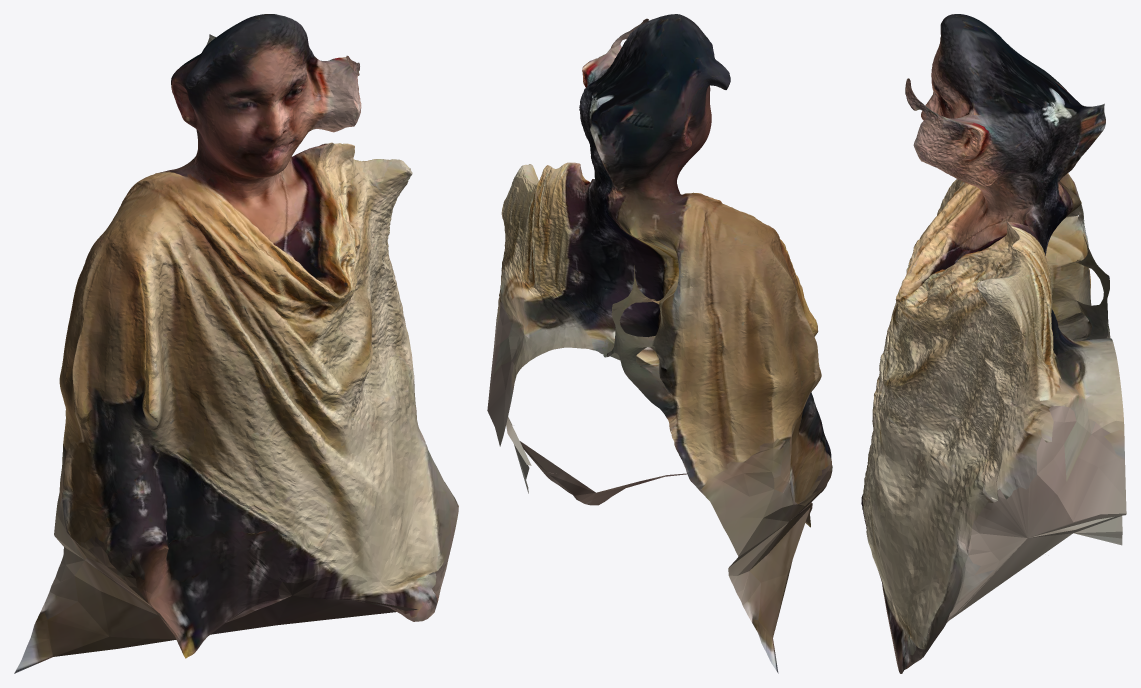
The model's file is devimadam.compressed.glb.
3 views of the same model, side by side, from view 1: azimuth 30°, elevation 25°; view 2: azimuth 150°, elevation 25°; view 3: azimuth 270°, elevation 25° (orthographic). The views are drawn at different scales.
Bounding box in the file's own units: 0.4221 × 0.7118 × 0.2679.
Materials: 1 (1 with a texture image).
